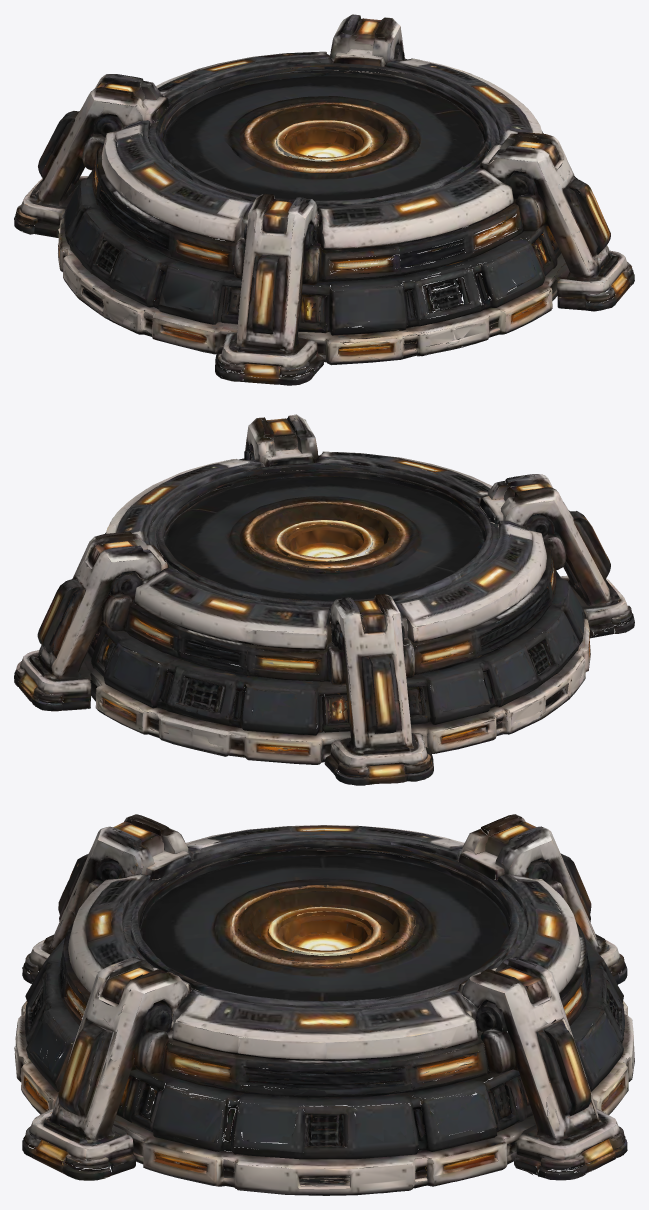
Rendered from holographic-display.glb.
3 views of the same model, one above another, from view 1: azimuth 30°, elevation 25°; view 2: azimuth 150°, elevation 25°; view 3: azimuth 270°, elevation 25° (orthographic). The views are drawn at different scales.
Parts seen in each view (by area): view 1: node_0; view 2: node_0; view 3: node_0.
Boxes of the visible parts, x1,y1,x2,y2 form: node_0: (14,14,634,385); node_0: (14,414,634,785); node_0: (14,814,634,1195).
Bounding box in the file's own units: 0.988 × 0.29 × 0.9709.
1 material, 1 textured.
